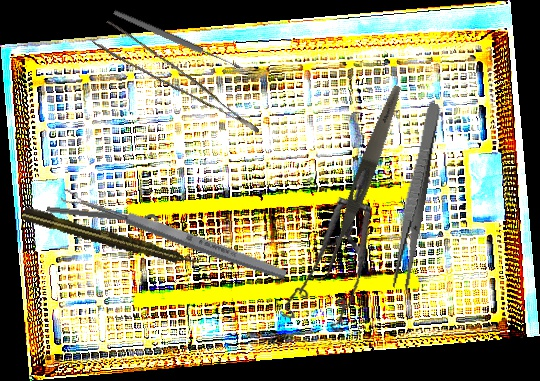Dressing Forceps: (319, 83, 407, 279), (389, 101, 443, 291)
Fixation Ring: (45, 203, 160, 233)
Handpiece: (21, 205, 202, 272)
Speculum: (261, 166, 394, 341)
Surgical Spoon: (59, 186, 289, 283), (112, 8, 242, 72)
Tissue Forceps: (91, 12, 260, 159)
